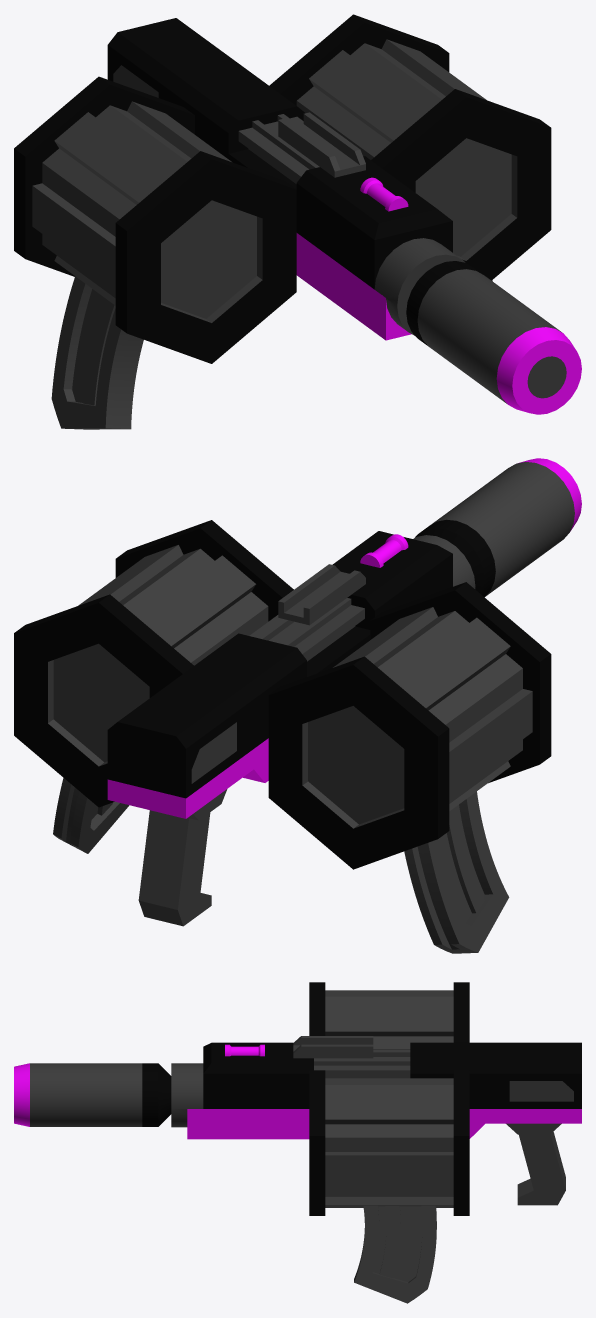
Rendered from DoomGun.fbx.
3 views of the same model, one above another, from view 1: azimuth 30°, elevation 25°; view 2: azimuth 150°, elevation 25°; view 3: azimuth 270°, elevation 25° (orthographic). The views are drawn at different scales.
Parts seen in each view (by area): view 1: clipBarrel_large (×2), attachment_silencer, blaster_barrelLarge, clip_banana, blaster_handle, blaster_centerDetail, detailRail_front, detailRail, detail_pipeSmall; view 2: clipBarrel_large (×2), blaster_handle, clip_banana (×2), attachment_silencer, blaster_centerDetail, blaster_barrelLarge, detailRail_front, detailRail, detail_pipeSmall; view 3: clipBarrel_large (×2), blaster_handle, attachment_silencer, blaster_barrelLarge, clip_banana, blaster_centerDetail, detailRail_front, detailRail, detail_pipeSmall.
Part boxes in pixels (x1=…): clipBarrel_large (×2): x1=14, y1=14, x2=551, y2=363; attachment_silencer: x1=406, y1=261, x2=581, y2=414; blaster_barrelLarge: x1=318, y1=172, x2=465, y2=340; clip_banana: x1=51, y1=276, x2=143, y2=429; blaster_handle: x1=107, y1=18, x2=277, y2=143; blaster_centerDetail: x1=206, y1=91, x2=387, y2=290; detailRail_front: x1=278, y1=112, x2=365, y2=177; detailRail: x1=252, y1=114, x2=319, y2=169; detail_pipeSmall: x1=360, y1=177, x2=408, y2=211; clipBarrel_large (×2): x1=14, y1=520, x2=551, y2=869; blaster_handle: x1=107, y1=647, x2=287, y2=926; clip_banana (×2): x1=53, y1=778, x2=509, y2=953; attachment_silencer: x1=415, y1=458, x2=581, y2=597; blaster_centerDetail: x1=219, y1=570, x2=397, y2=684; blaster_barrelLarge: x1=332, y1=531, x2=475, y2=606; detailRail_front: x1=278, y1=564, x2=365, y2=625; detailRail: x1=257, y1=598, x2=351, y2=646; detail_pipeSmall: x1=360, y1=534, x2=408, y2=567; clipBarrel_large (×2): x1=309, y1=982, x2=469, y2=1215; blaster_handle: x1=437, y1=1042, x2=581, y2=1205; attachment_silencer: x1=14, y1=1063, x2=171, y2=1126; blaster_barrelLarge: x1=171, y1=1042, x2=283, y2=1139; clip_banana: x1=354, y1=1205, x2=436, y2=1303; blaster_centerDetail: x1=282, y1=1042, x2=442, y2=1139; detailRail_front: x1=293, y1=1036, x2=373, y2=1058; detailRail: x1=314, y1=1050, x2=410, y2=1065; detail_pipeSmall: x1=225, y1=1044, x2=264, y2=1056.
Bounding box in the file's own units: 21.66 × 15 × 35.4.
